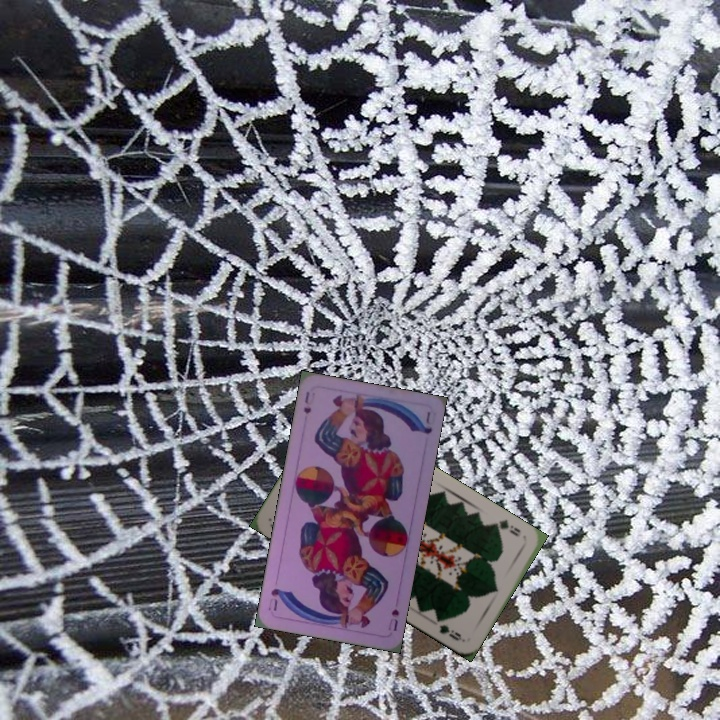G9: (489, 515, 523, 539)
SU: (384, 604, 402, 634), (299, 387, 314, 416)
